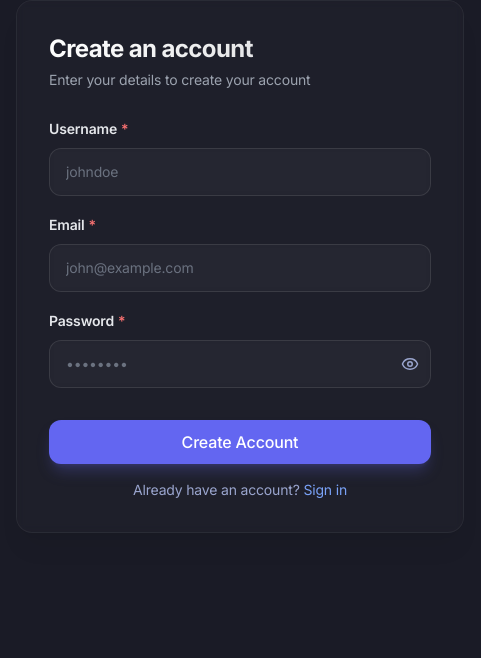
Test: AuthForm › Password Requirements Visibility › hides password requirements when password field loses focus
This screenshot has width=481, height=658.
Check: the text "Password requirements:" is not shown
Focus the password field
Focus the password field labelled "Password*" at (240, 364), box x1=49 y1=340 x2=431 y2=388
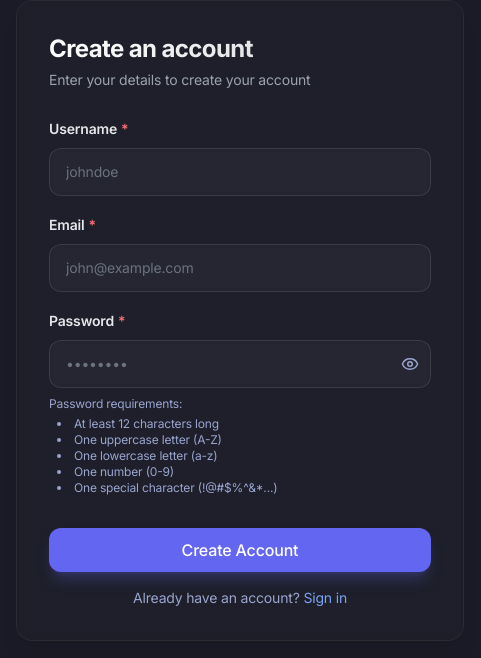
Check: the text "Password requirements:" is shown, box x1=49 y1=396 x2=182 y2=411
Blur the password field
Leave the password field labelled "Password*", box x1=49 y1=340 x2=431 y2=388
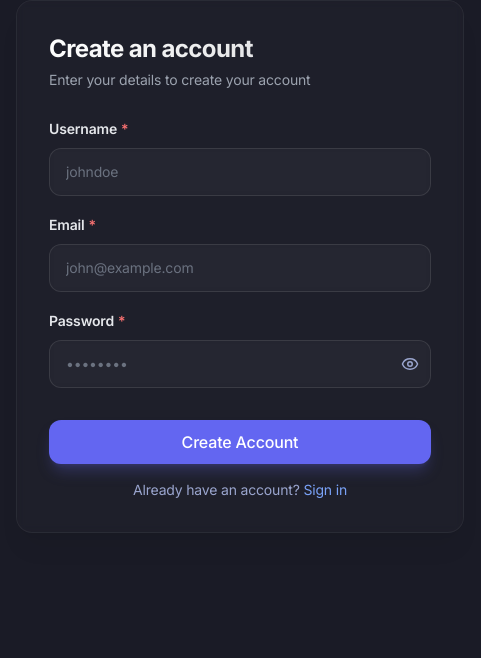
Check: the text "Password requirements:" is gone
